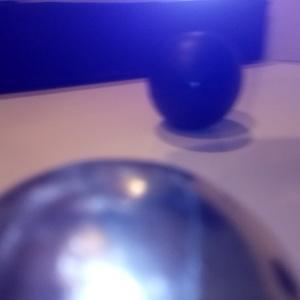alive_ball: (1, 158, 300, 300)
dead_ball: (146, 31, 241, 127)
